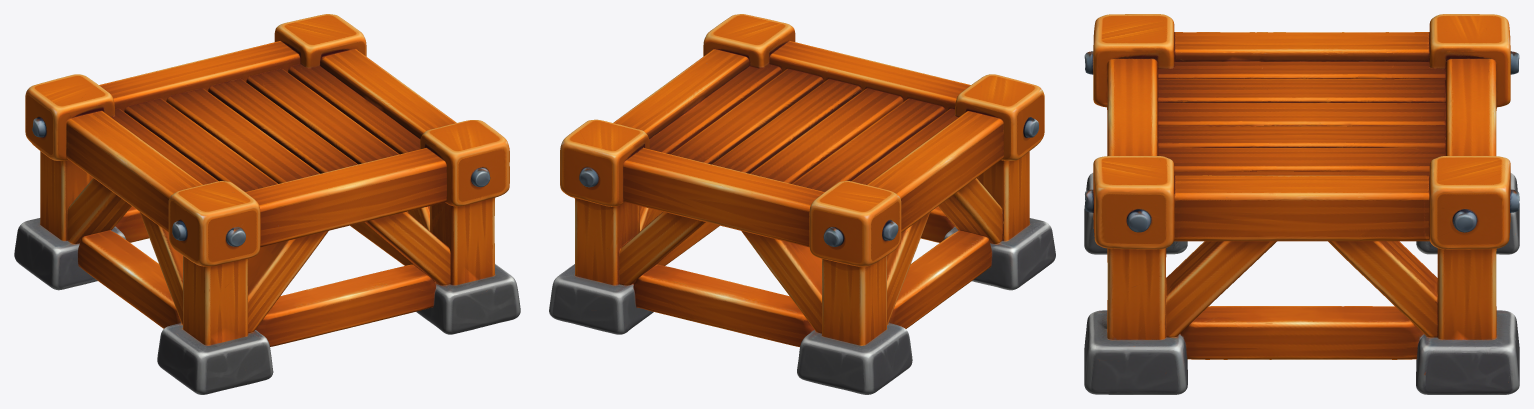
File: foundation.glb
The picture shows the model from 3 angles, left to right: view 1: azimuth 30°, elevation 25°; view 2: azimuth 150°, elevation 25°; view 3: azimuth 270°, elevation 25°; orthographic projection. The views are drawn at different scales.
Bounding box in the file's own units: 1.9 × 0.9913 × 1.9.
Materials: 1 (1 with a texture image).
